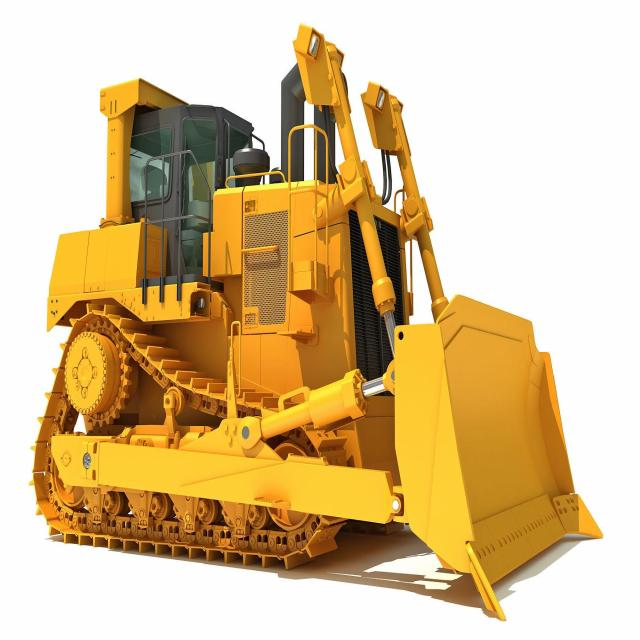Bulldozer: (34, 31, 596, 606)
